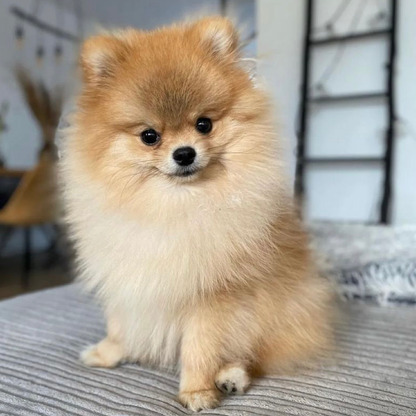Pomeranian: (56, 20, 345, 404)
